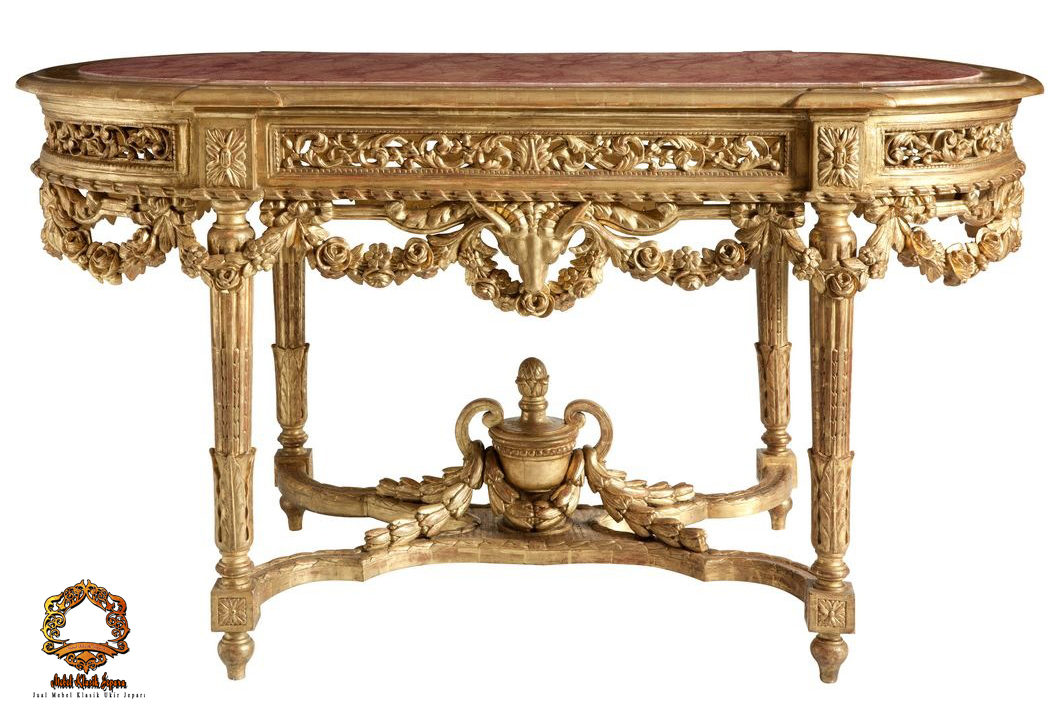Carving Table: (25, 45, 1013, 693)
